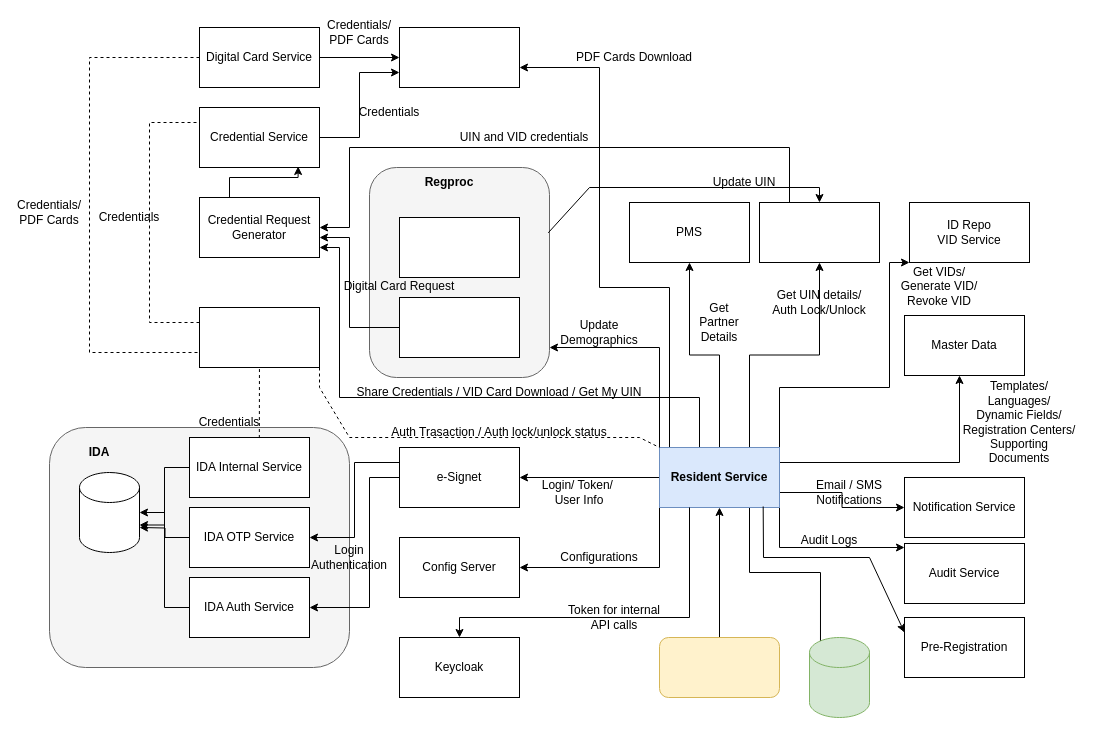
Some shapes in this 1096 by 735 pixel diagram are drawn without their labels. Here are the shapes that lost their labels. From the top down, the box of each, then its label:
(398, 26, 520, 88): Data Share
(398, 216, 520, 278): Packet Creater
(758, 202, 880, 262): ID Repo Identity Service
(198, 306, 320, 368): Websub
(398, 296, 520, 358): Regproc Print Stage
(78, 472, 140, 552): IDA DB
(658, 636, 780, 698): Resident UI
(808, 636, 870, 718): Resident DB
